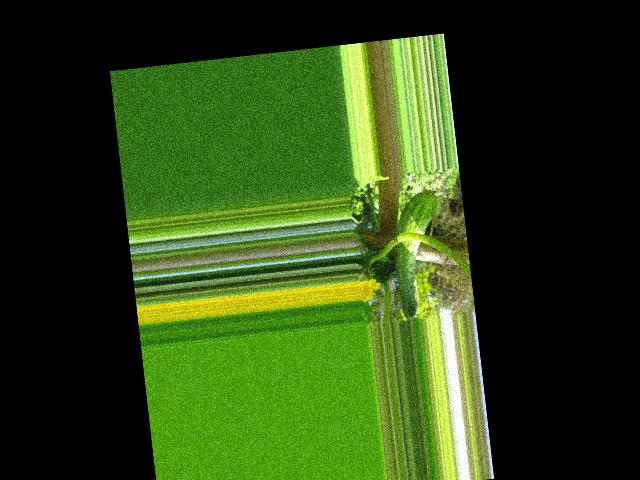cucumber: (387, 189, 448, 321)
